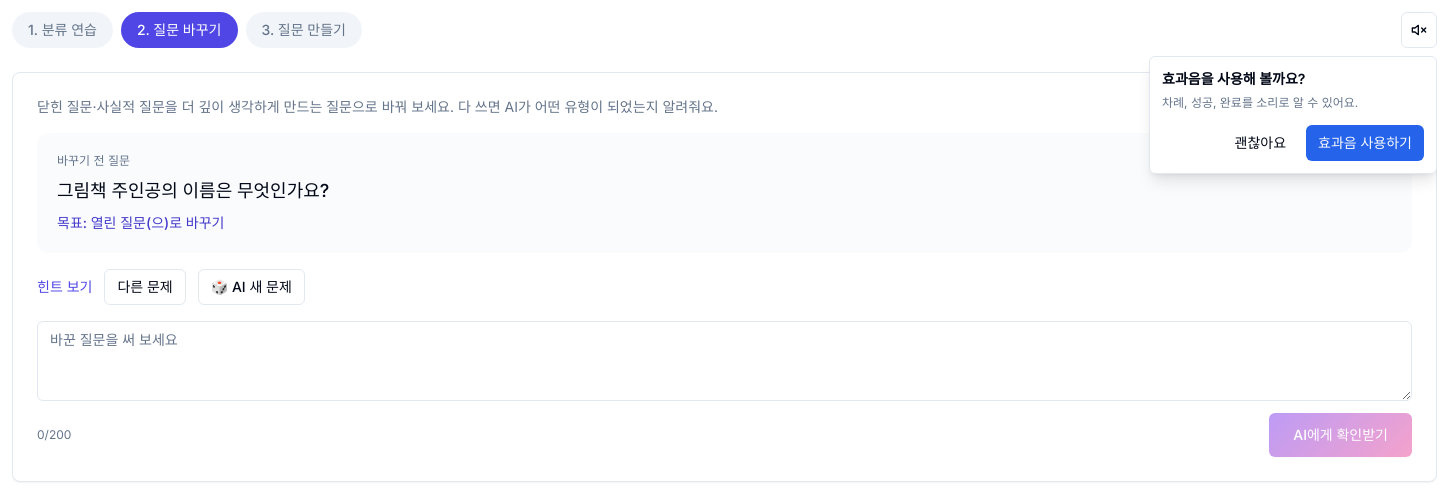
연습 질문 전달 › 현재 탭을 다시 누르면 진행 중인 생성 요청을 유지한다
The image size is (1452, 503).
Click the button "🎲 AI 새 문제" at [251, 287], box [198,269,305,305]
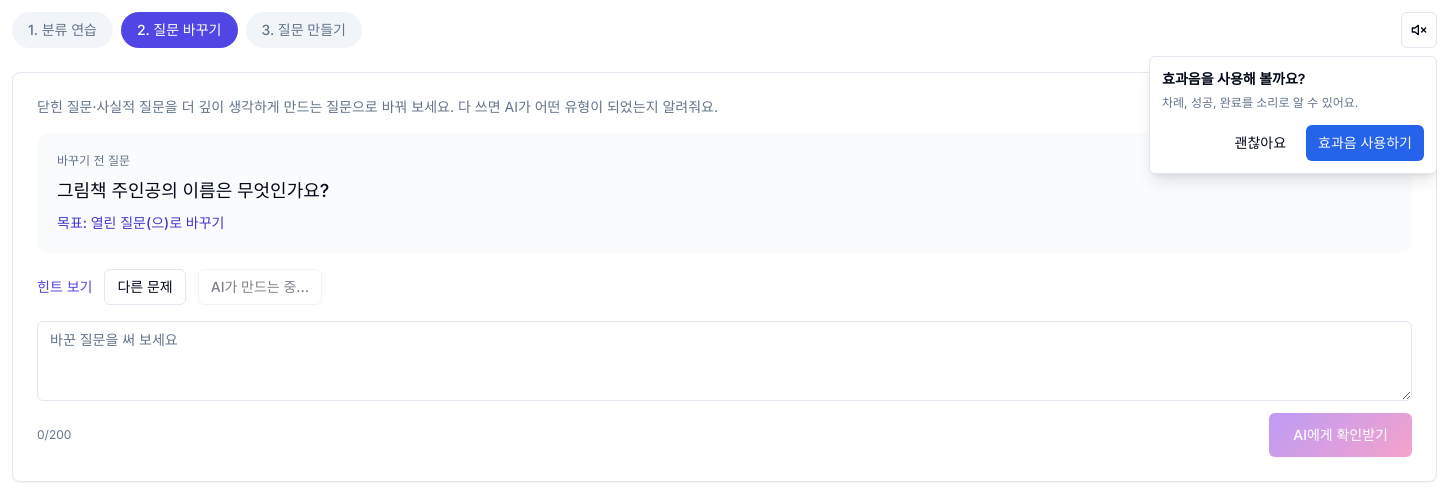
Click the tab "2. 질문 바꾸기" at [179, 30], box [121,12,238,48]
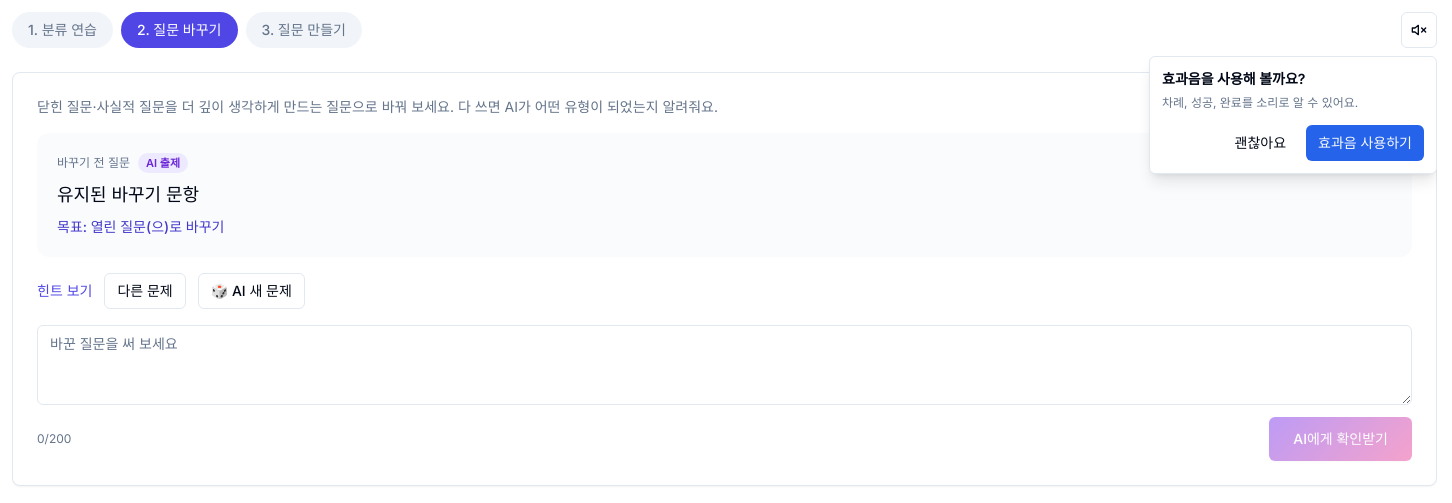
Check: the text "유지된 바꾸기 문항" is shown, box [57,184,199,205]
